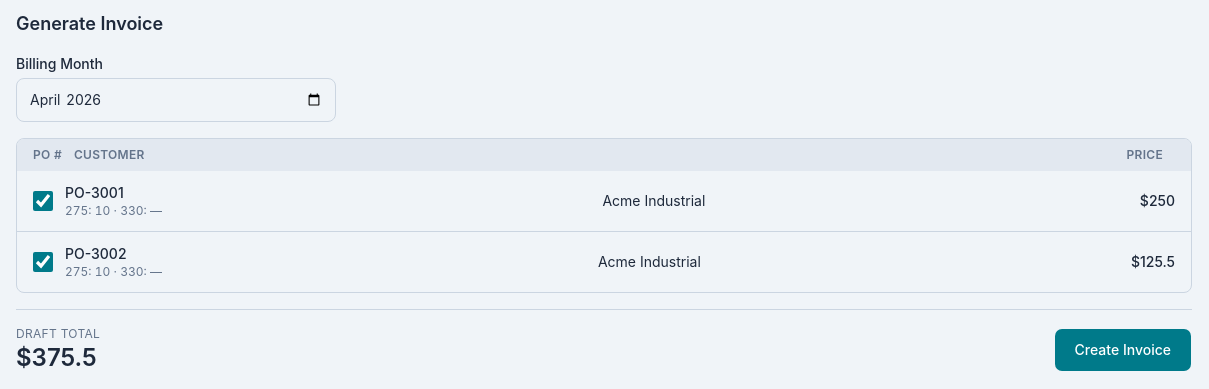
GenerateInvoice › recalculates the draft total when a row is unchecked
Expected: the text named "Draft total" reads "$375.5", [16,343,97,372]
Click the checkbox named "include po-3002" at (43, 262), box [33,252,53,272]
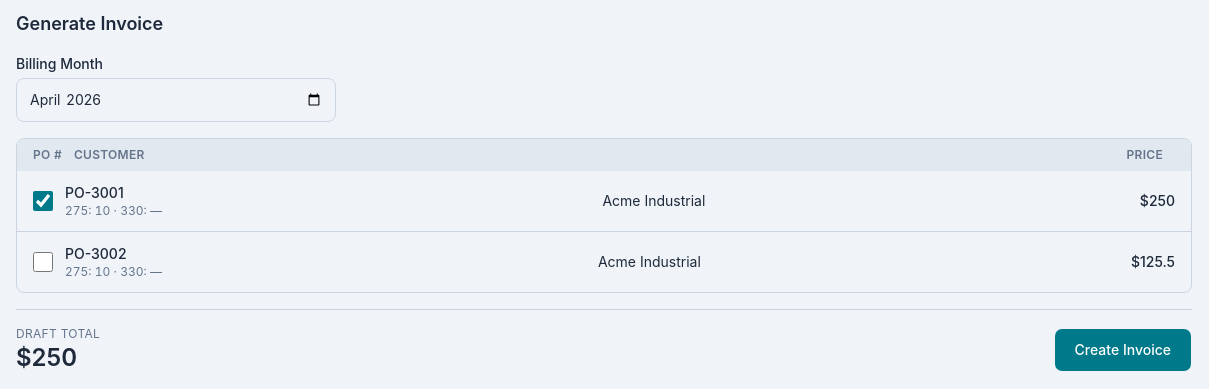
Result: the text named "Draft total" reads "$250" at [16,343,77,372]
